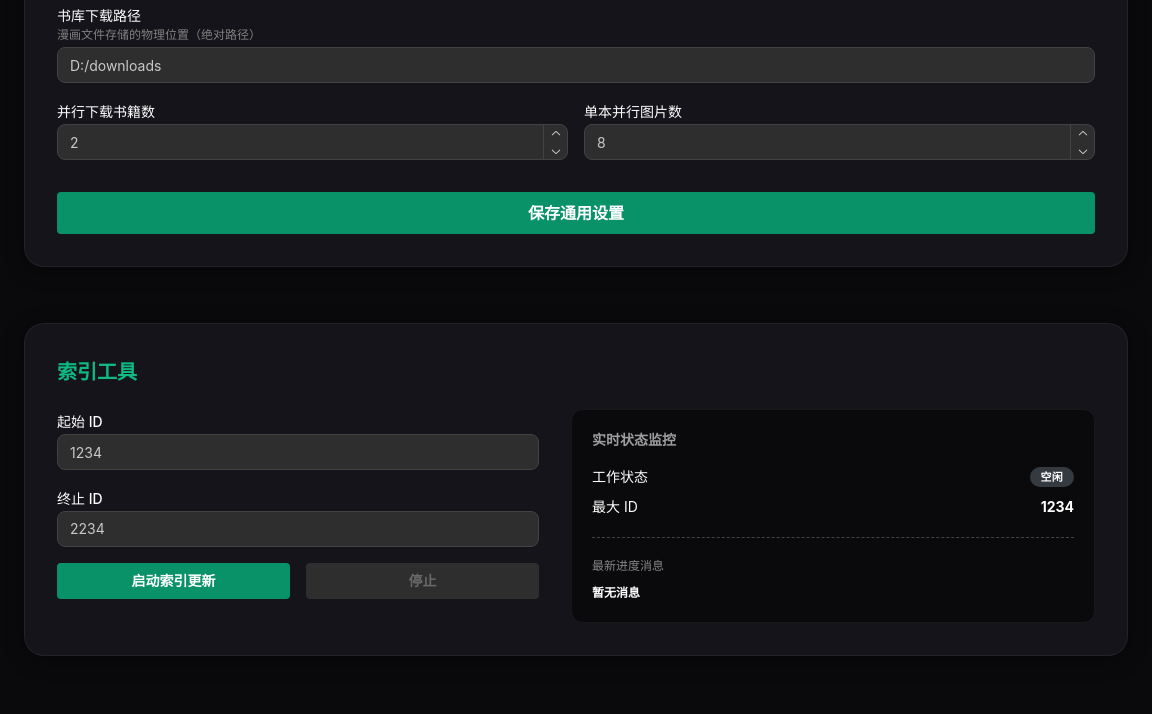
Test: SettingsPage › shows crawler start error feedback
This screenshot has width=1152, height=714.
(page scrolled)
Click the button "启动索引更新".
click(174, 581)  # box [57, 563, 290, 599]
(page scrolled)
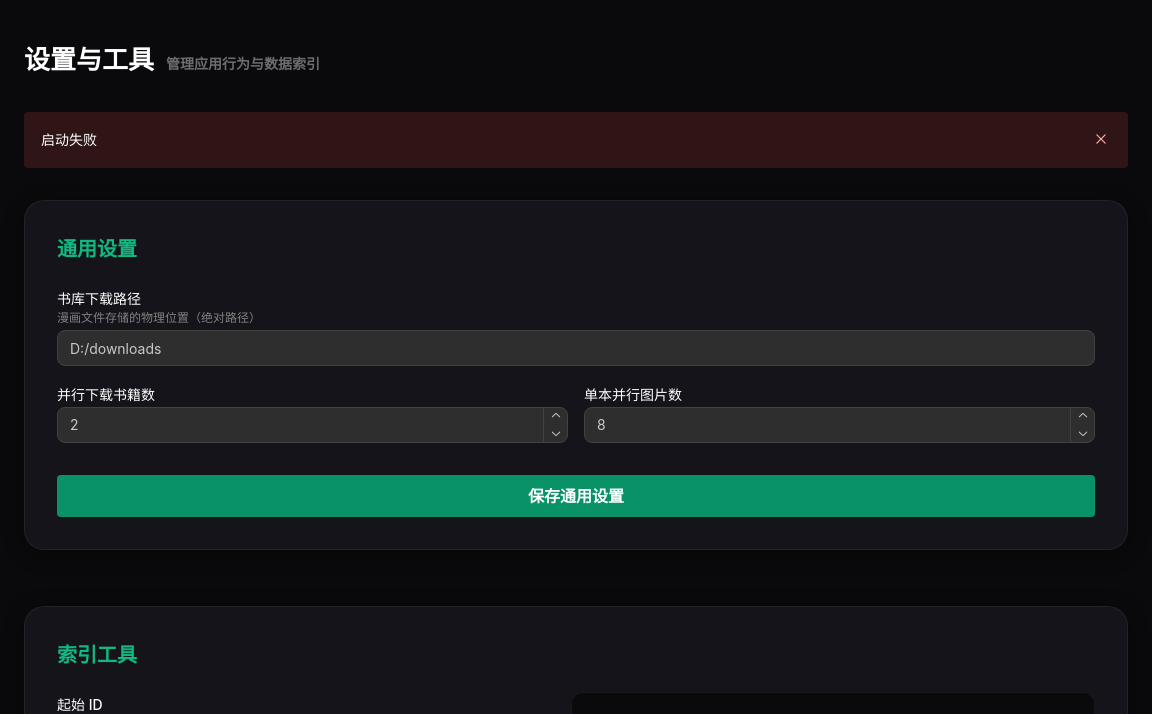
Expected: the text "启动失败" is shown, [41, 131, 97, 148]
